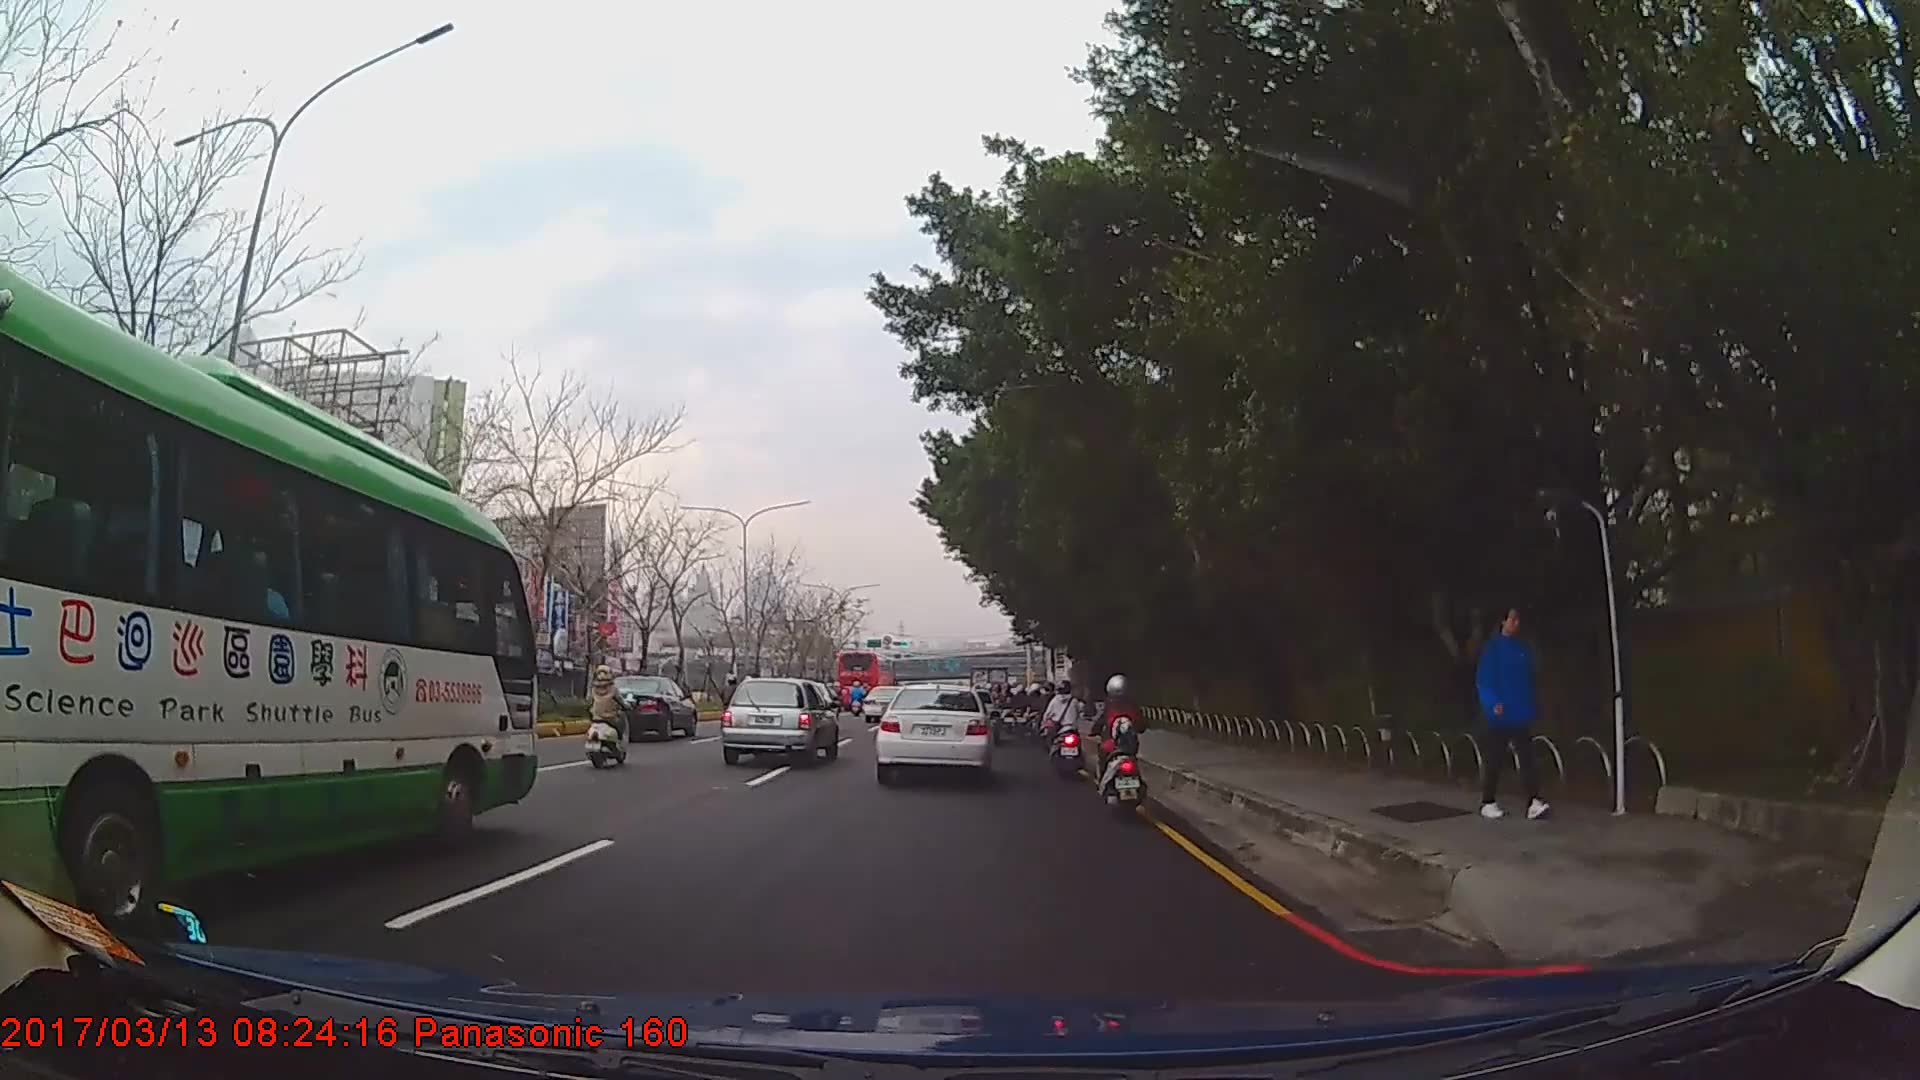pedestrian: (1477, 602, 1542, 819)
rider: (1095, 675, 1147, 821), (587, 663, 634, 770), (1043, 673, 1086, 775), (1038, 682, 1059, 753), (721, 675, 744, 726)
vehicle: (0, 256, 538, 951), (875, 679, 993, 781), (721, 673, 839, 764), (592, 674, 696, 740), (830, 645, 898, 706)
